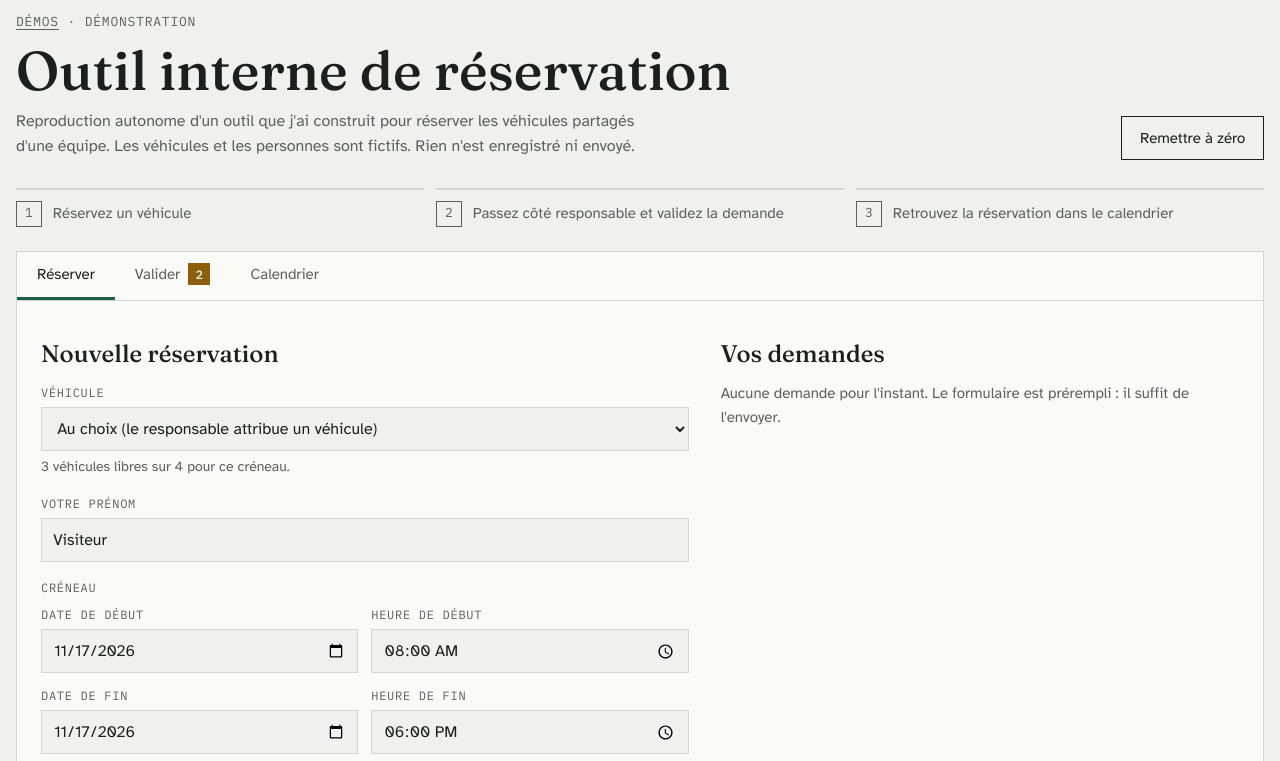
démo de réservation › empêche de valider une demande en conflit et explique pourquoi
Later steps or results of the test are not shown.
Click the tab "Valider 2" at (173, 276), box left=115, top=252, right=230, bottom=300
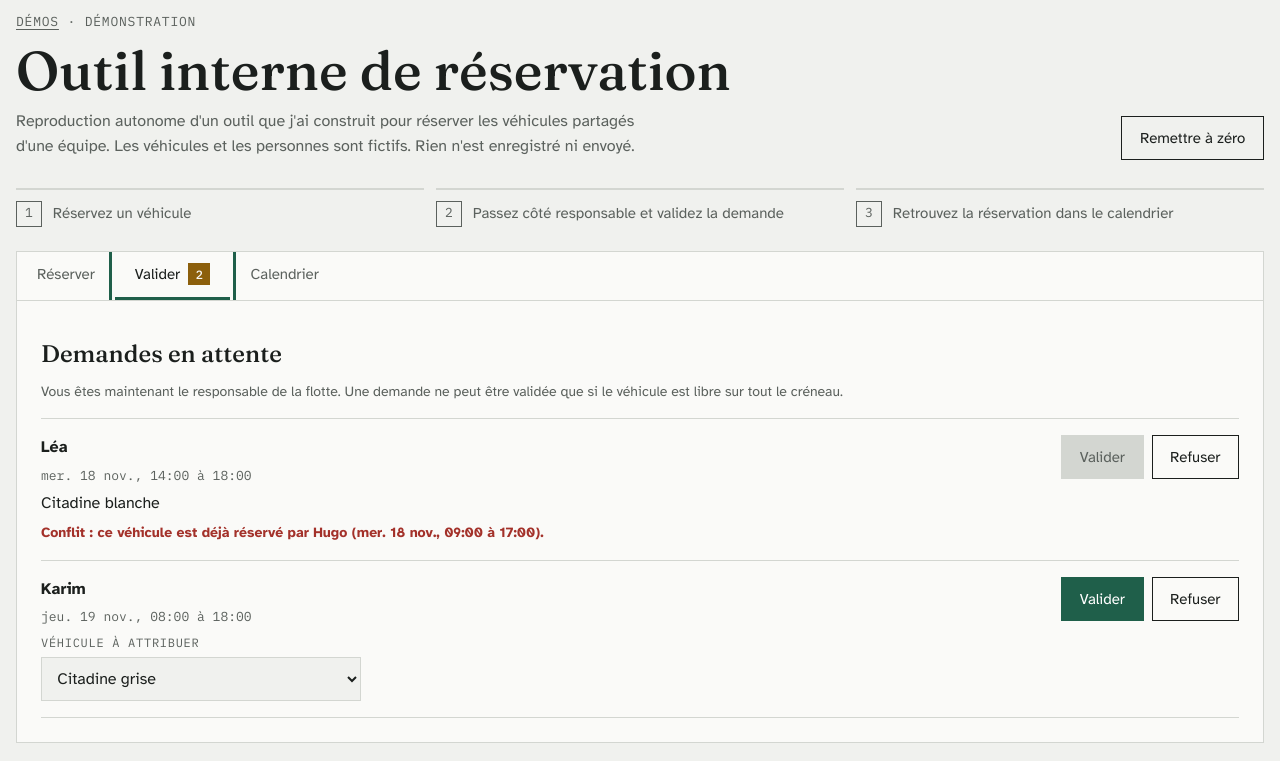
Check: the text "déjà réservé par Hugo" is shown, box left=41, top=524, right=544, bottom=540
Check: the button with aria-label "Valider la demande de Léa" is disabled, box left=1061, top=435, right=1144, bottom=479
